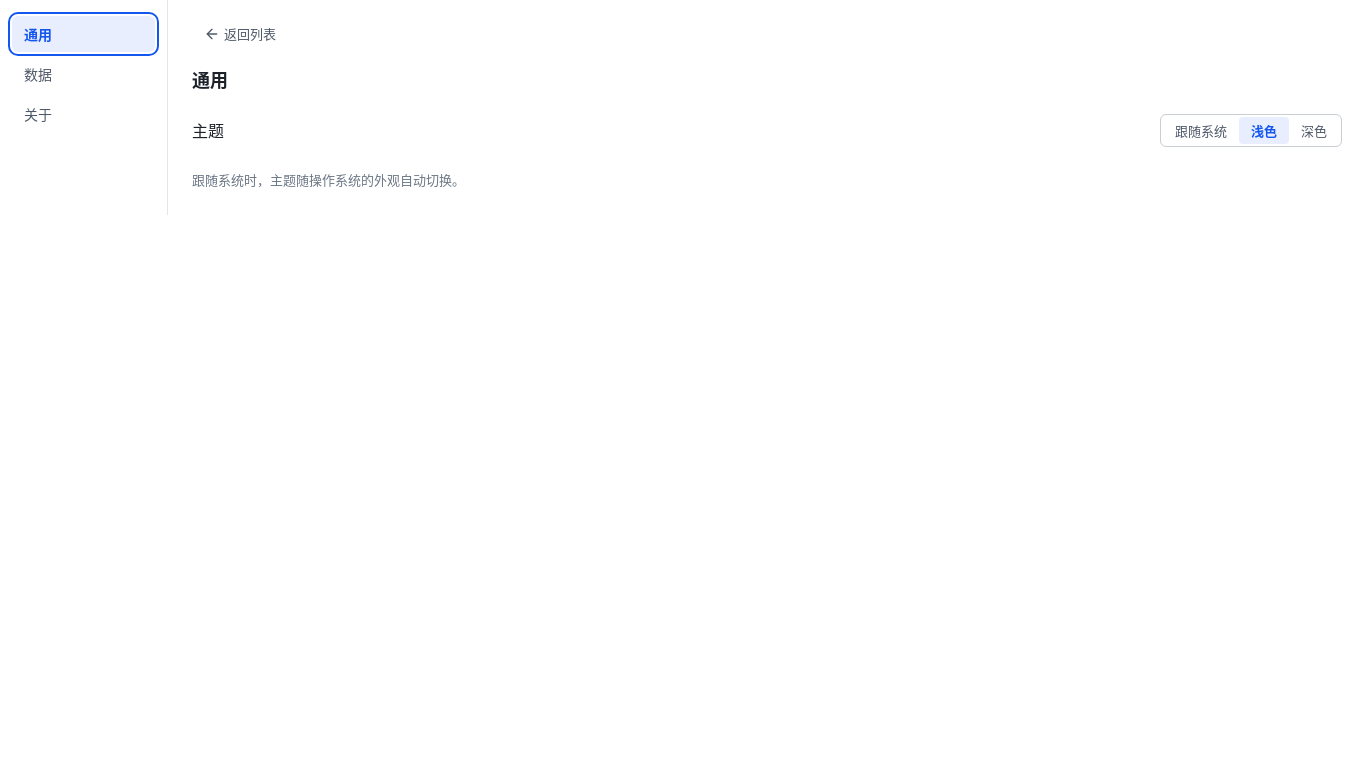
SettingsPage 数据 tab (issue #13) › dismisses the migrated panel on 稍后 without relaunching
This screenshot has width=1366, height=768.
Click the button with test id "settings-nav-data" at (84, 74), box [12,56,155,92]
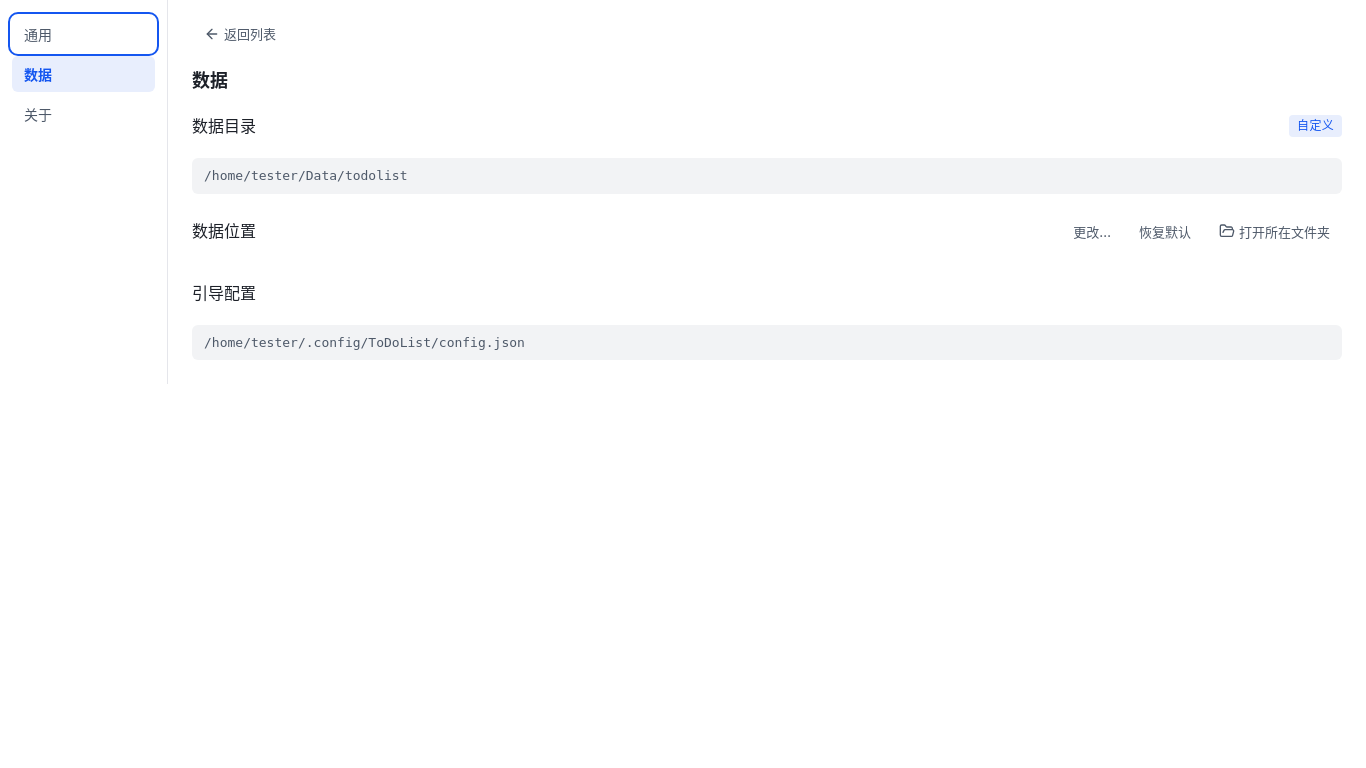
Now the text "/home/tester/Data/todolist" is shown, box [192,158,1342,194]
Click the button "更改…" at (1092, 231), box [1061,214,1123,248]
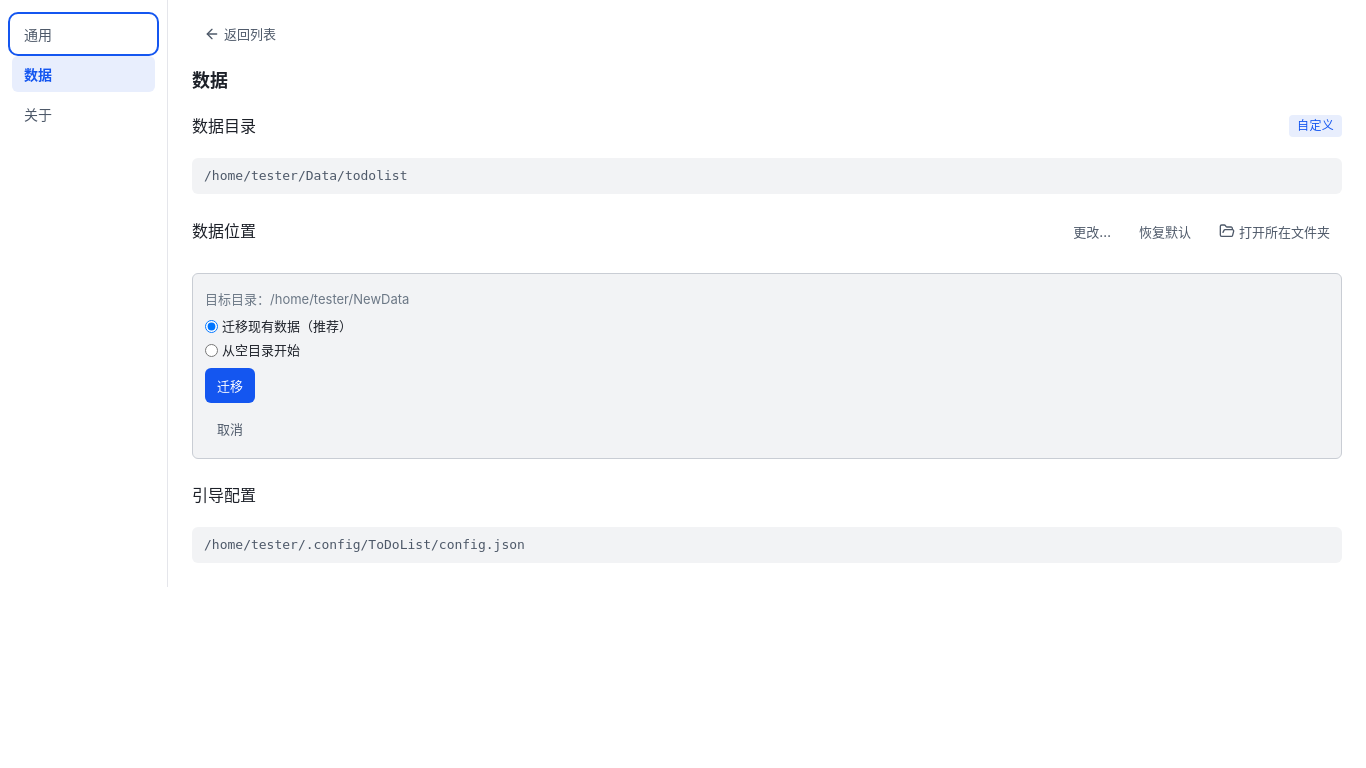
Now the text "/home/tester/NewData" is shown, box [270,290,409,306]
Click the button with test id "data-dir-apply-button" at (230, 386), box [205,368,255,403]
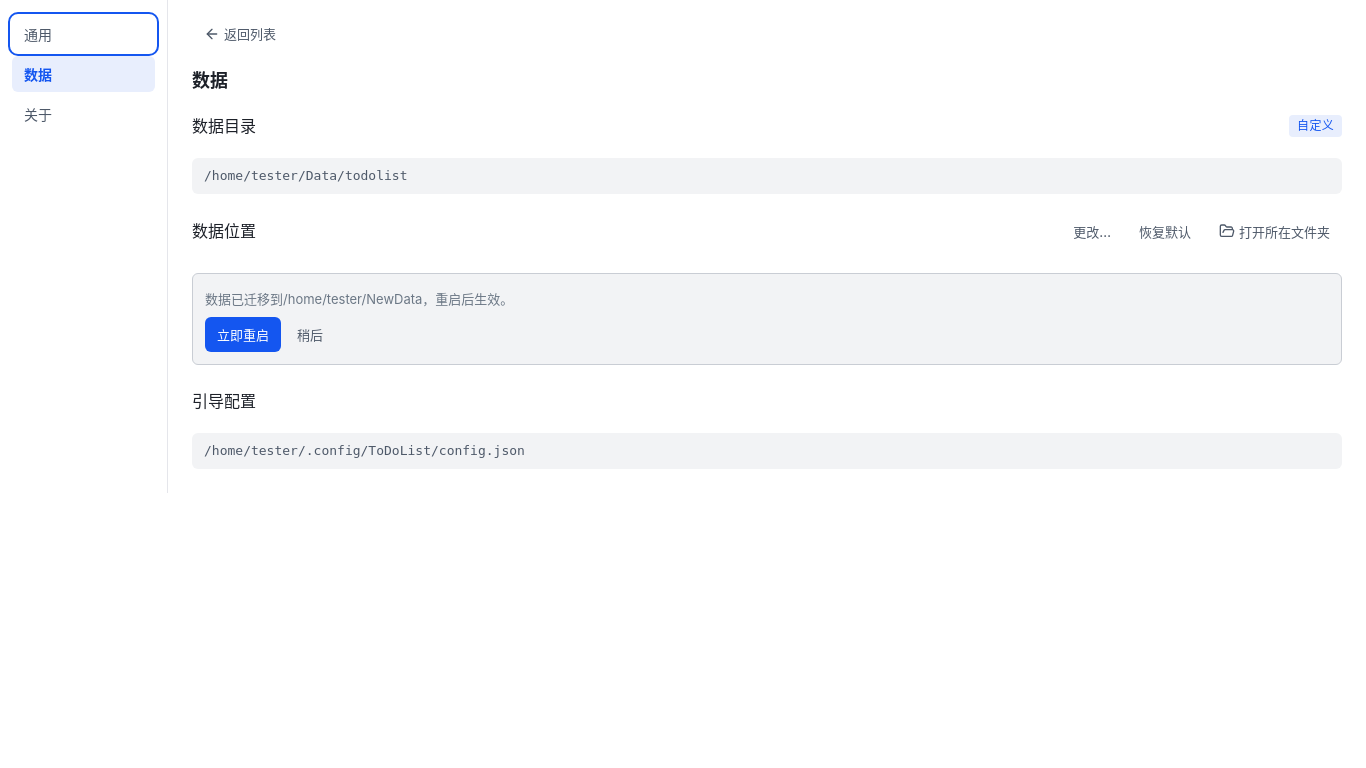
Now the element with test id "data-dir-migrated-panel" is shown, box [192,272,1342,365]
Click the button with test id "data-dir-restart-later" at (310, 334), box [285,317,335,352]
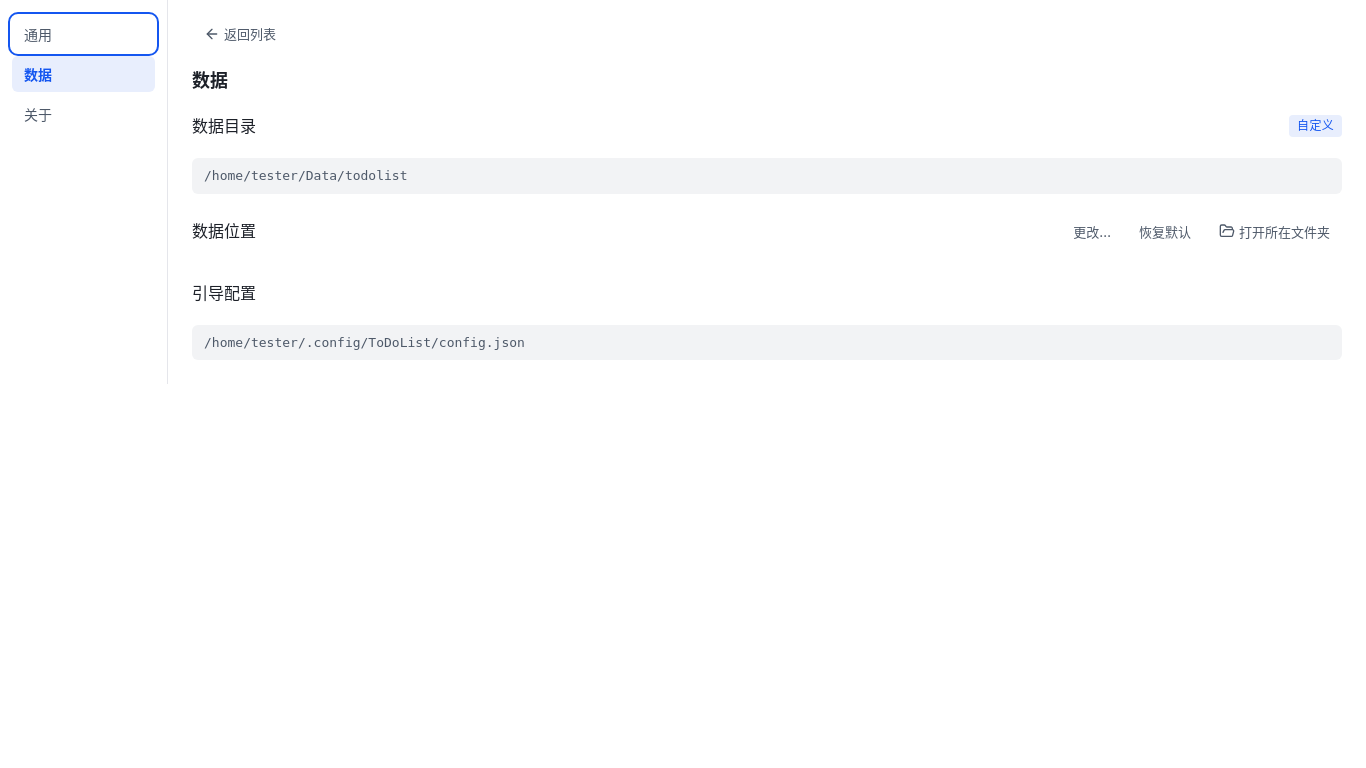
Now the element with test id "data-dir-migrated-panel" is gone
